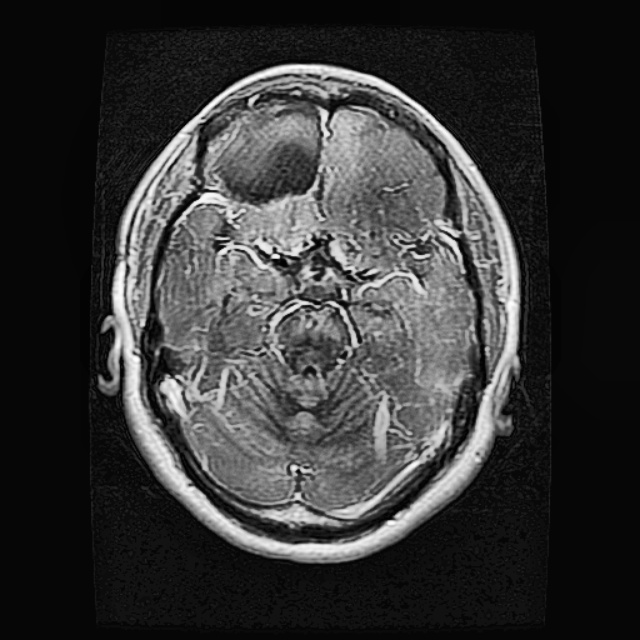Meningioma: (200, 98, 333, 205)
